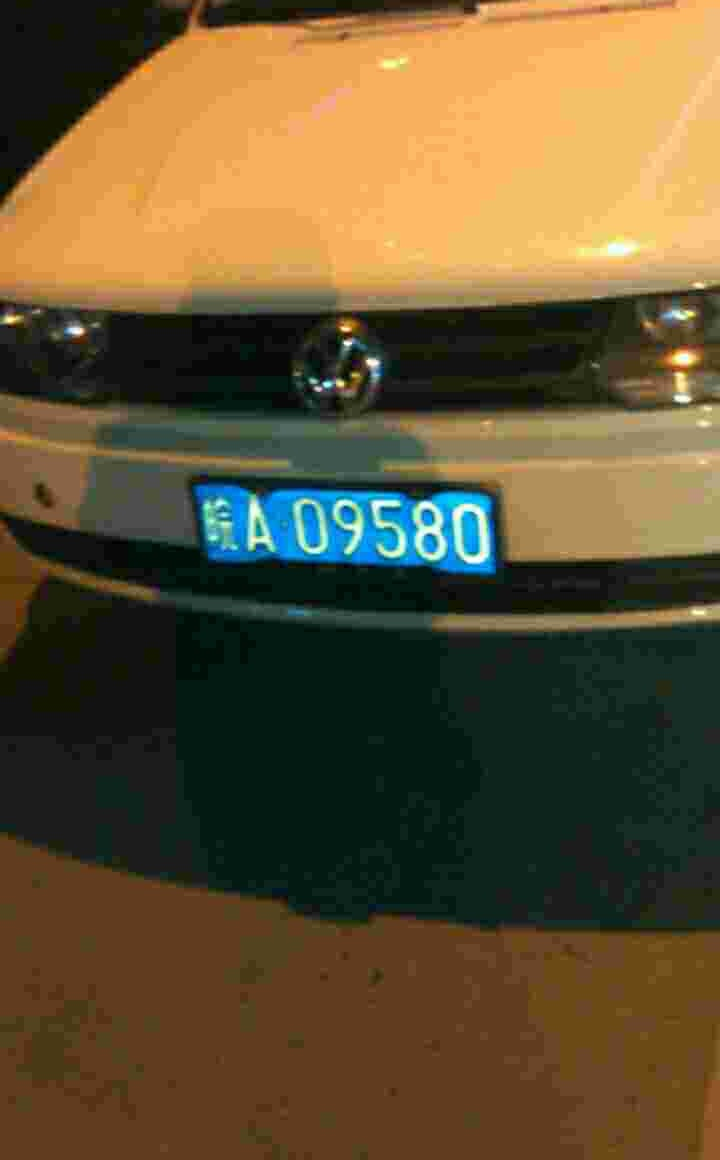license_plate: (192, 488, 496, 558)
